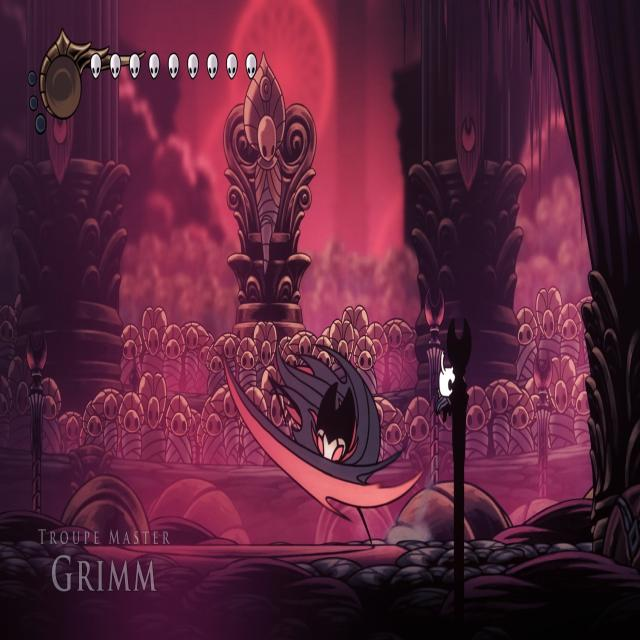Dash Uppercut: (216, 305, 424, 542)
Player: (433, 348, 457, 428)
